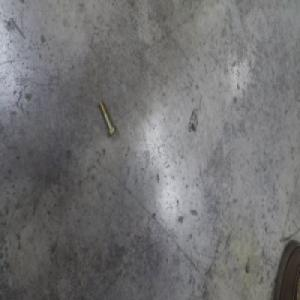Bolt: (98, 99, 117, 139)
